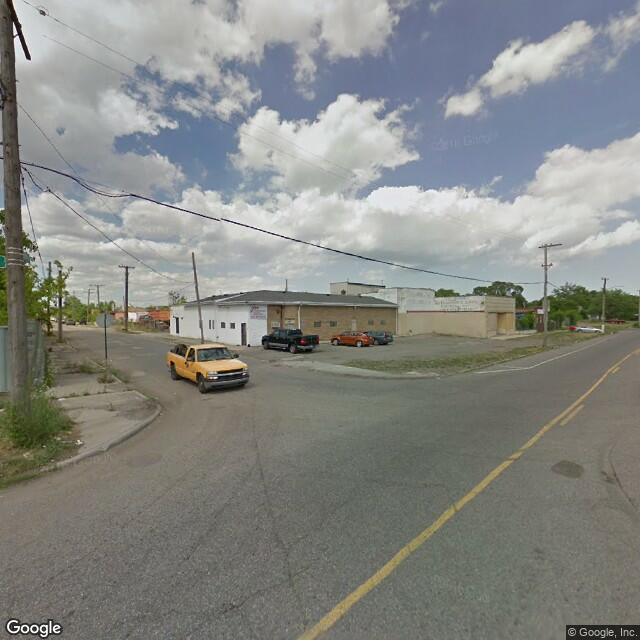litter: (72, 434, 86, 448), (54, 392, 70, 403), (51, 433, 64, 446)
